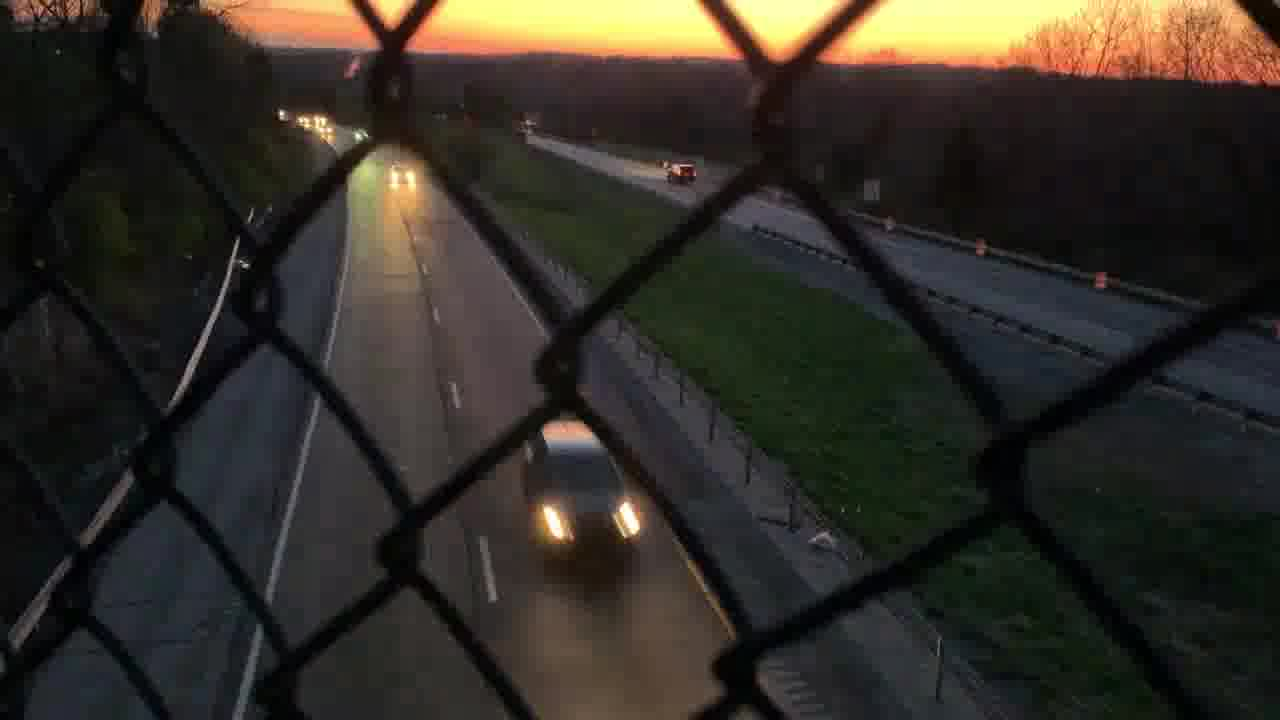largeCar: (523, 427, 643, 582), (665, 162, 700, 186)
